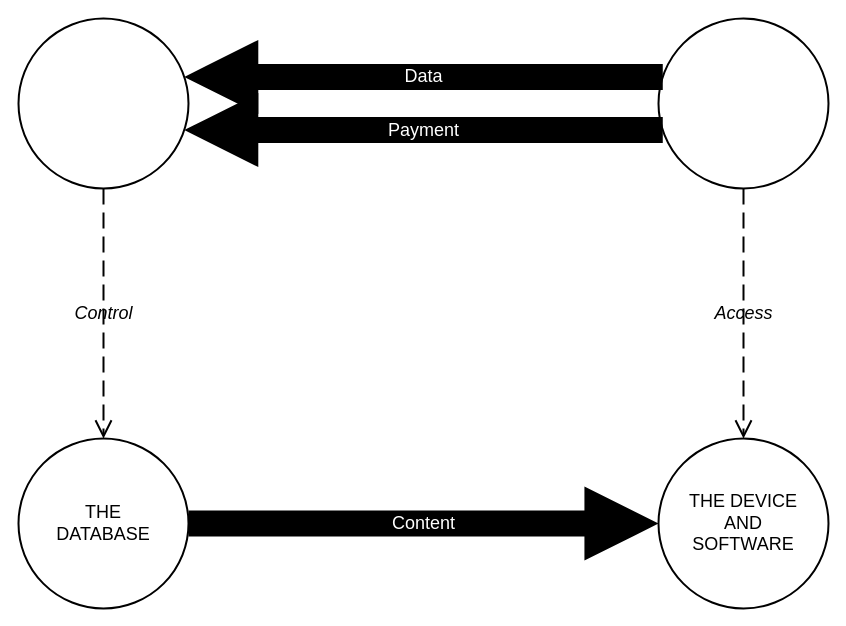
Image size: 846x626. Some labels were removed from this diagram. Each missing label, with the centre of its shape:
"THE STREAMING PROVIDER" goes at (x=103, y=103).
"THE USER" goes at (x=743, y=103).
